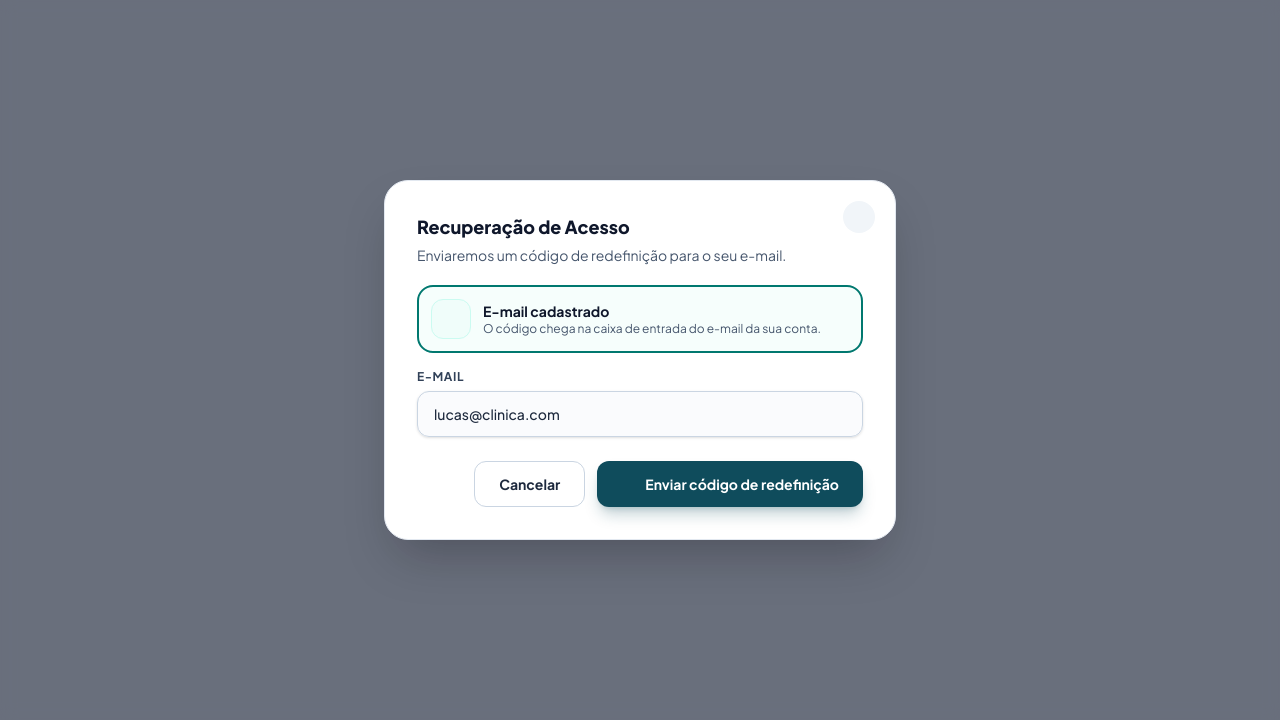
Test: RecuperarSenhaModal › SEM_CONEXAO mostra o banner de conexão e mantém o formulário
Click the button "Enviar código de redefinição".
click(730, 484)  # box [597,461,863,507]
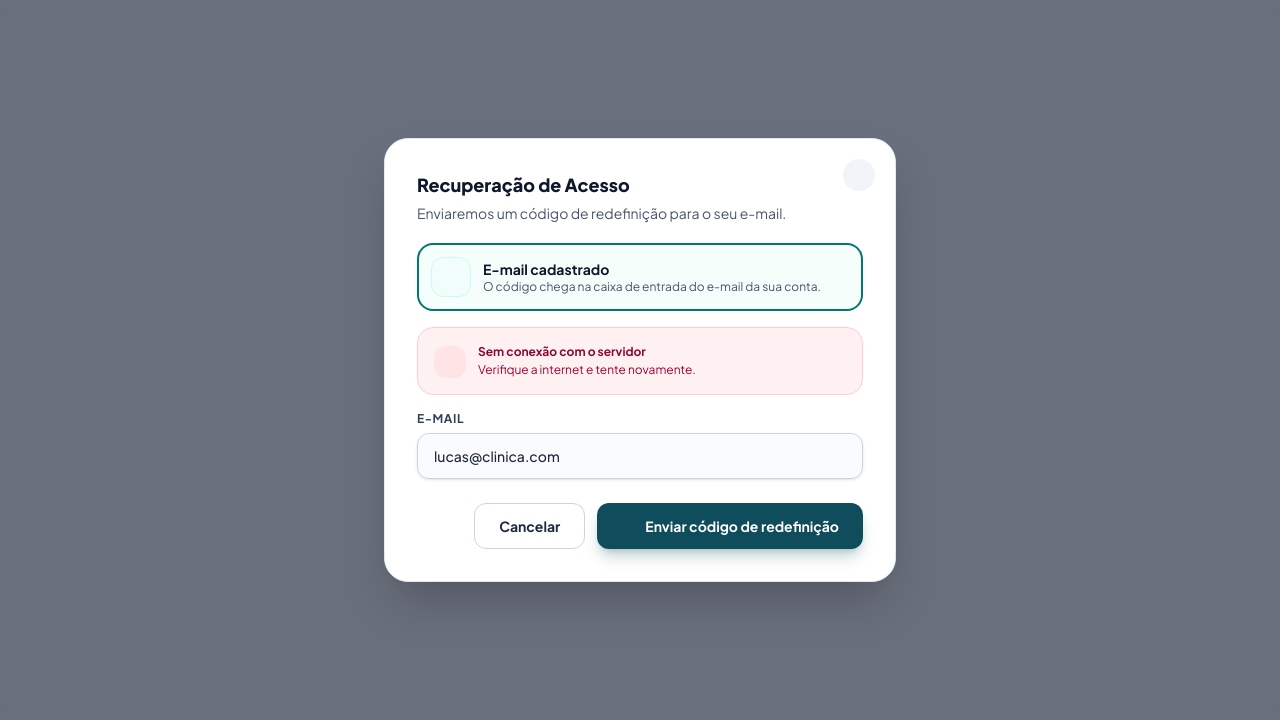
Expected: the button "Enviar código de redefinição" is enabled, [597,503,863,549]
Expected: the message shows "Sem conexão com o servidor", [478,344,646,359]
